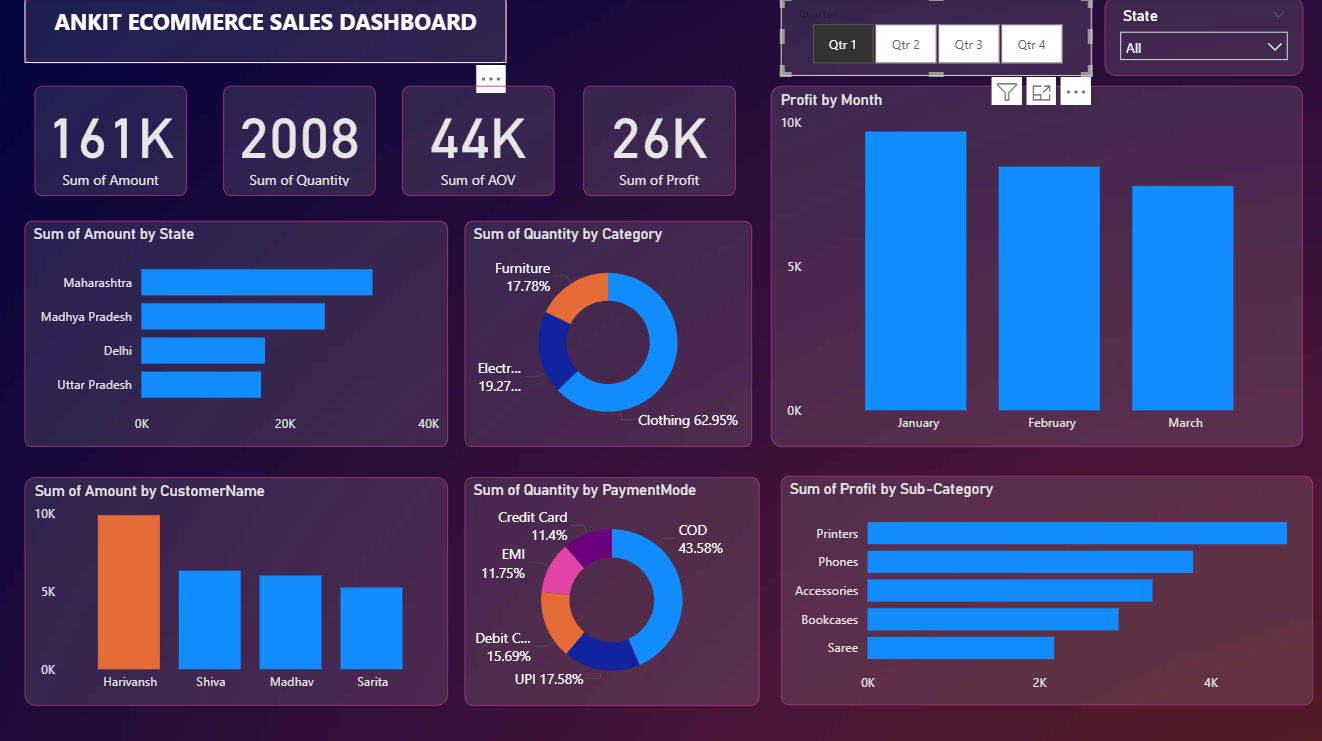

The dashboard page shown, as its layout file describes it:
{"tool":"powerbi","page":{"name":"Page 1","canvas":[1280,720],"ordinal":0},"visuals":[{"type":"textbox","box":[26.8,0,465.9,64.3],"z":0},{"type":"columnChart","title":"Profit by Month","fields":{"Category":["Orders.Order Date.Variation.Date Hierarchy.Month"],"Y":["Details.Profit"]},"box":[746.8,85.7,513.9,348.7],"z":1000},{"type":"barChart","fields":{"Category":["Orders.State"],"Y":["Details.Amount"]},"box":[26.5,216,409,218.4],"z":2000},{"type":"donutChart","fields":{"Category":["Details.Category"],"Y":["Details.Quantity"]},"box":[451.2,216,277.5,218.4],"z":3000},{"type":"donutChart","fields":{"Y":["Details.Quantity"],"Category":["Details.PaymentMode"]},"box":[451.2,463.3,284.7,220.8],"z":4000},{"type":"card","fields":{"Values":["Details.Amount"]},"box":[36.2,85.7,147.2,106.2],"z":5000},{"type":"card","fields":{"Values":["Details.Quantity"]},"box":[218.4,85.7,147.2,106.2],"z":6000},{"type":"card","fields":{"Values":["Details.AOV"]},"box":[390.9,85.7,147.2,106.2],"z":7000},{"type":"card","fields":{"Values":["Details.Profit"]},"box":[565.8,85.7,147.2,106.2],"z":8000},{"type":"barChart","fields":{"Category":["Details.Sub-Category"],"Y":["Details.Profit"]},"box":[756.8,462.4,513.9,222],"z":9000},{"type":"columnChart","fields":{"Category":["Orders.CustomerName"],"Y":["Details.Amount"]},"box":[27,463,409,221],"z":10000},{"type":"slicer","fields":{"Values":["Orders.Order Date.Variation.Date Hierarchy.Quarter"]},"box":[756.4,0,300.4,76],"z":11000},{"type":"slicer","fields":{"Values":["Orders.State"]},"box":[1068.9,0,191.8,76],"z":12000}]}

Visuals, with their boxes in screenshot pixels (x1, y1, x2, y2), scaled from the page's 1280x720 canvas onto the 1322x741 screenshot:
textbox: l=28, t=0, r=509, b=66
"Profit by Month" columnChart: l=771, t=88, r=1302, b=447
barChart - Orders.State x Details.Amount: l=27, t=222, r=450, b=447
donutChart - Details.Category x Details.Quantity: l=466, t=222, r=753, b=447
donutChart - Details.Quantity x Details.PaymentMode: l=466, t=477, r=760, b=704
card - Details.Amount: l=37, t=88, r=189, b=197
card - Details.Quantity: l=226, t=88, r=378, b=197
card - Details.AOV: l=404, t=88, r=556, b=197
card - Details.Profit: l=584, t=88, r=736, b=197
barChart - Details.Sub-Category x Details.Profit: l=782, t=476, r=1312, b=704
columnChart - Orders.CustomerName x Details.Amount: l=28, t=477, r=450, b=704
slicer - Orders.Order Date.Variation.Date Hierarchy.Quarter: l=781, t=0, r=1091, b=78
slicer - Orders.State: l=1104, t=0, r=1302, b=78
